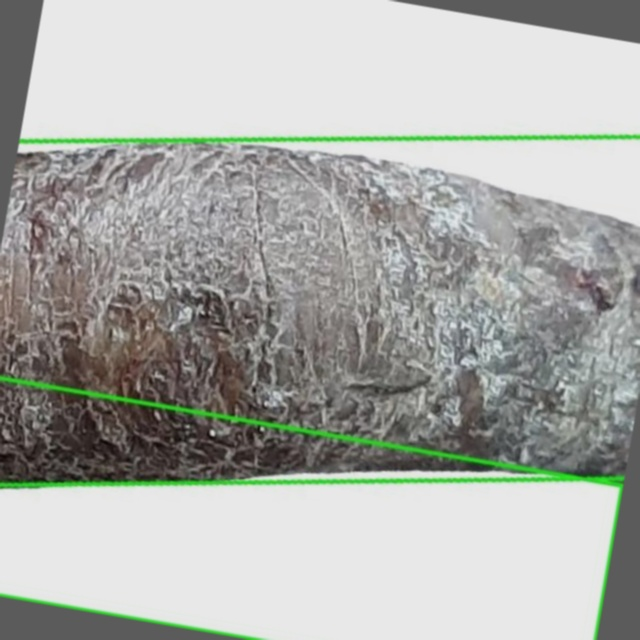Eczema: (0, 137, 639, 485), (0, 378, 622, 639)
